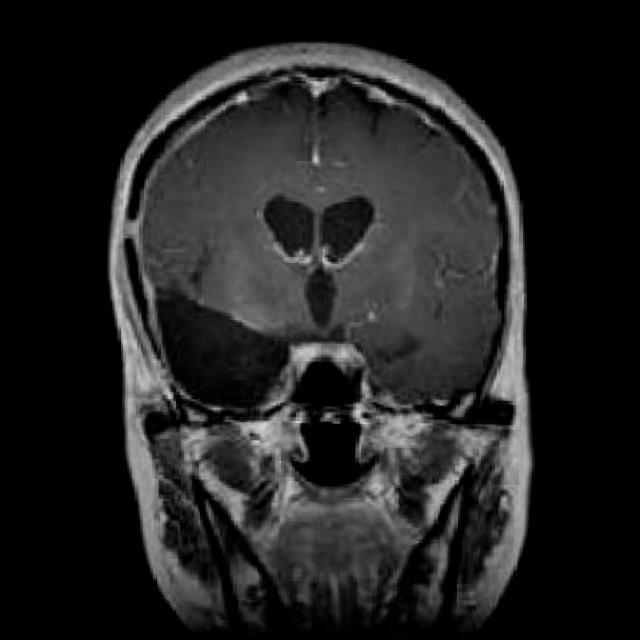LMCI: (130, 253, 284, 402)
